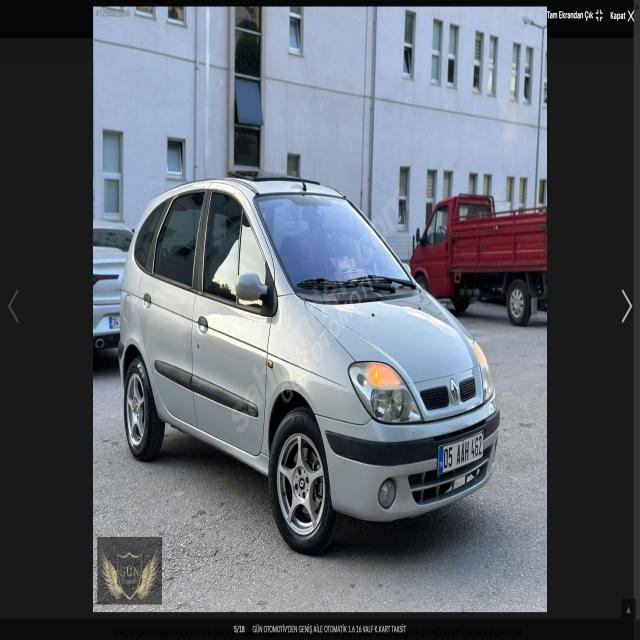renault: (443, 371, 466, 408)
